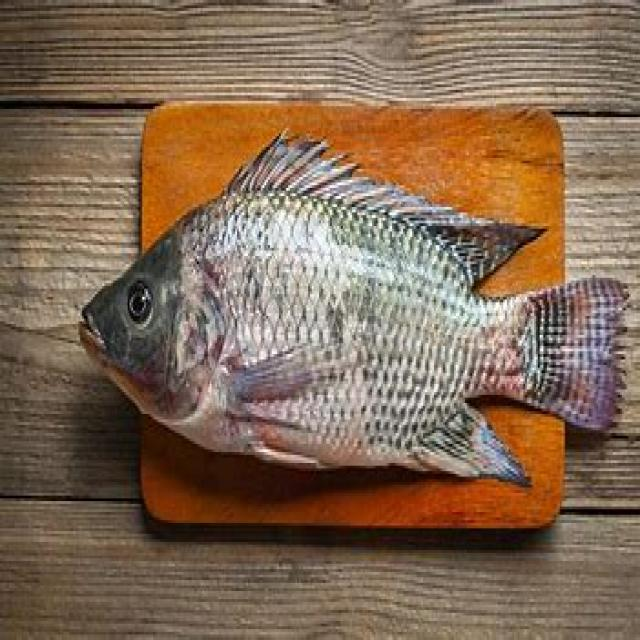Tilapia: (78, 127, 625, 489)
